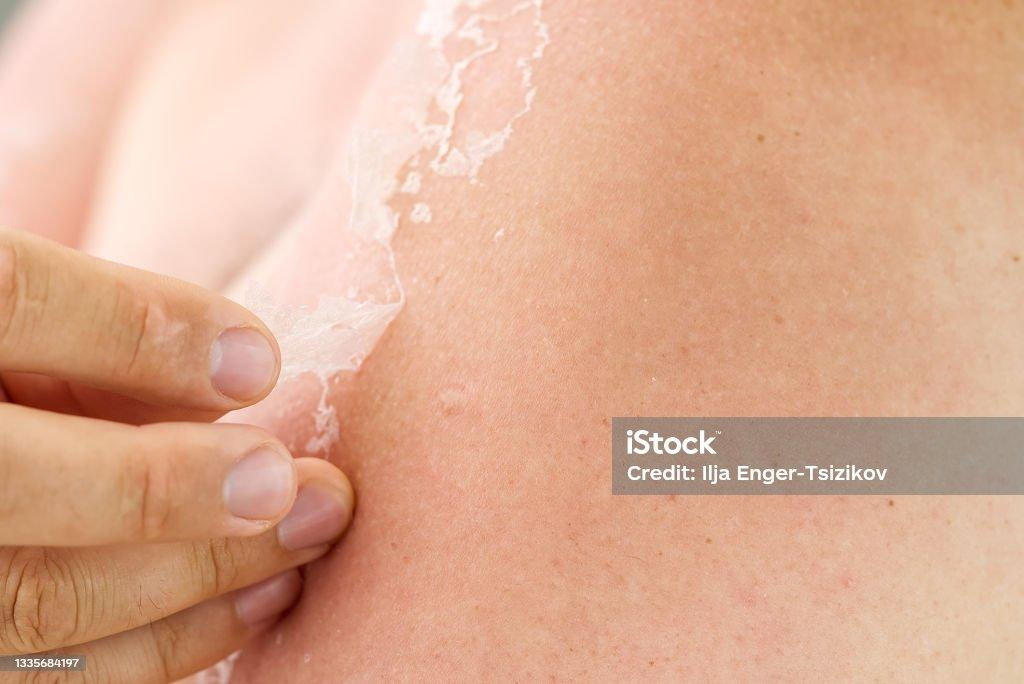Dry-Skin: (455, 155, 838, 375), (368, 435, 720, 595), (158, 57, 337, 310), (765, 37, 940, 190), (812, 163, 920, 378), (417, 27, 735, 78)
